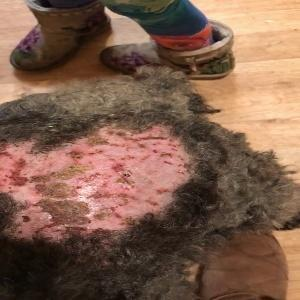skin_lesions: (0, 122, 191, 241)
